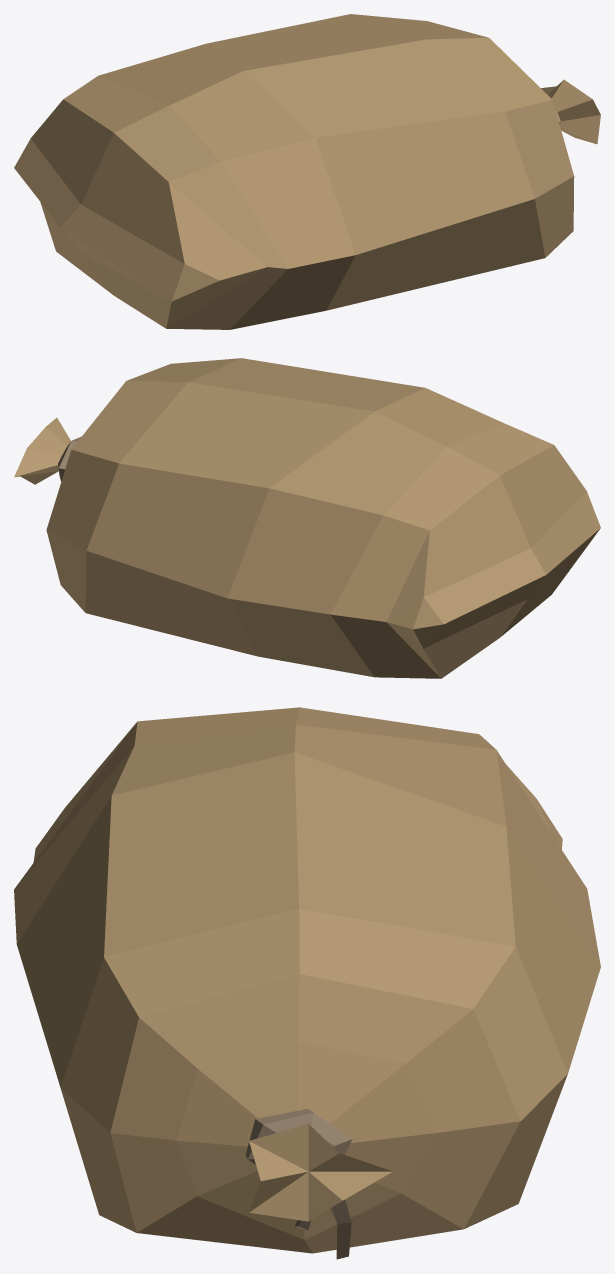
File: kingdom_SM_Prop_Sack_02.gltf
The picture shows the model from 3 angles, top to bottom: view 1: azimuth 30°, elevation 25°; view 2: azimuth 150°, elevation 25°; view 3: azimuth 270°, elevation 25°; orthographic projection. The views are drawn at different scales.
Visible parts, largest first — view 1: SM_Prop_Sack_02; view 2: SM_Prop_Sack_02; view 3: SM_Prop_Sack_02.
Boxes of the visible parts, x1=… form: SM_Prop_Sack_02: x1=14, y1=14, x2=600, y2=329; SM_Prop_Sack_02: x1=14, y1=358, x2=600, y2=678; SM_Prop_Sack_02: x1=14, y1=707, x2=600, y2=1259.
Bounding box in the file's own units: 0.6212 × 0.2355 × 0.4063.
1 material, 1 textured.
